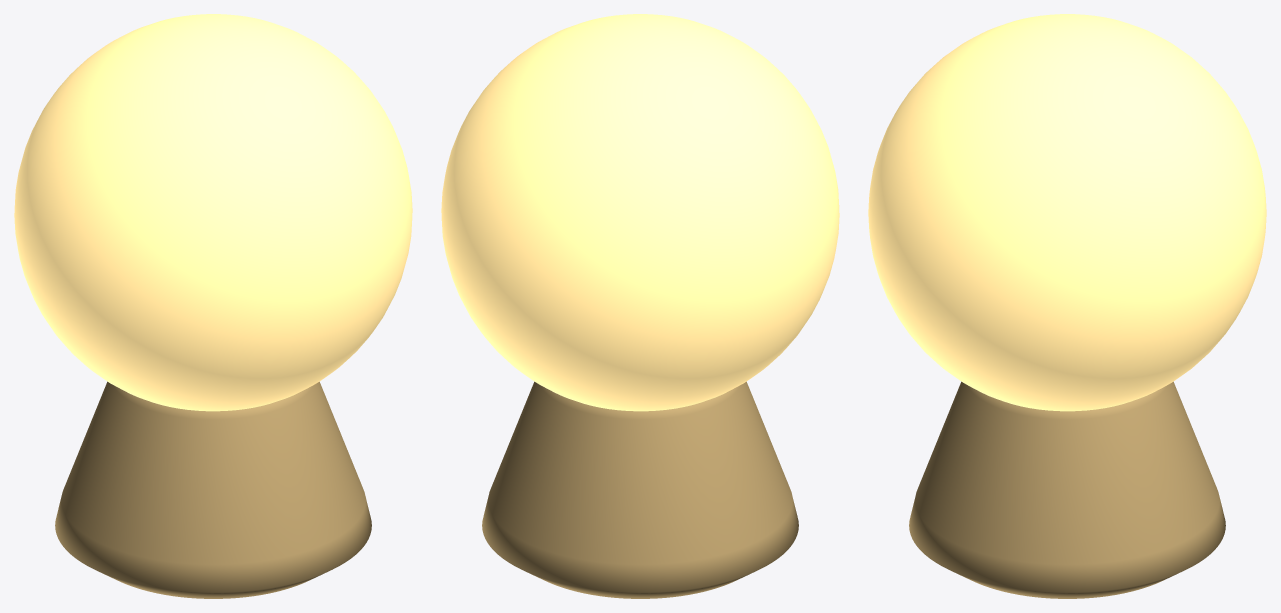
The model's file is bedroom-lamps.glb.
3 views of the same model, side by side, from view 1: azimuth 30°, elevation 25°; view 2: azimuth 150°, elevation 25°; view 3: azimuth 270°, elevation 25° (orthographic).
Parts seen in each view (by area): view 1: part_00000, part_00002; view 2: part_00000, part_00002; view 3: part_00000, part_00002.
Boxes of the visible parts, x1,y1,x2,y2 form: part_00000: [14, 14, 412, 411]; part_00002: [55, 381, 371, 598]; part_00000: [441, 14, 839, 411]; part_00002: [482, 381, 798, 598]; part_00000: [868, 14, 1266, 411]; part_00002: [909, 381, 1225, 598].
Bounding box in the file's own units: 0.1924 × 0.2732 × 0.1924.
